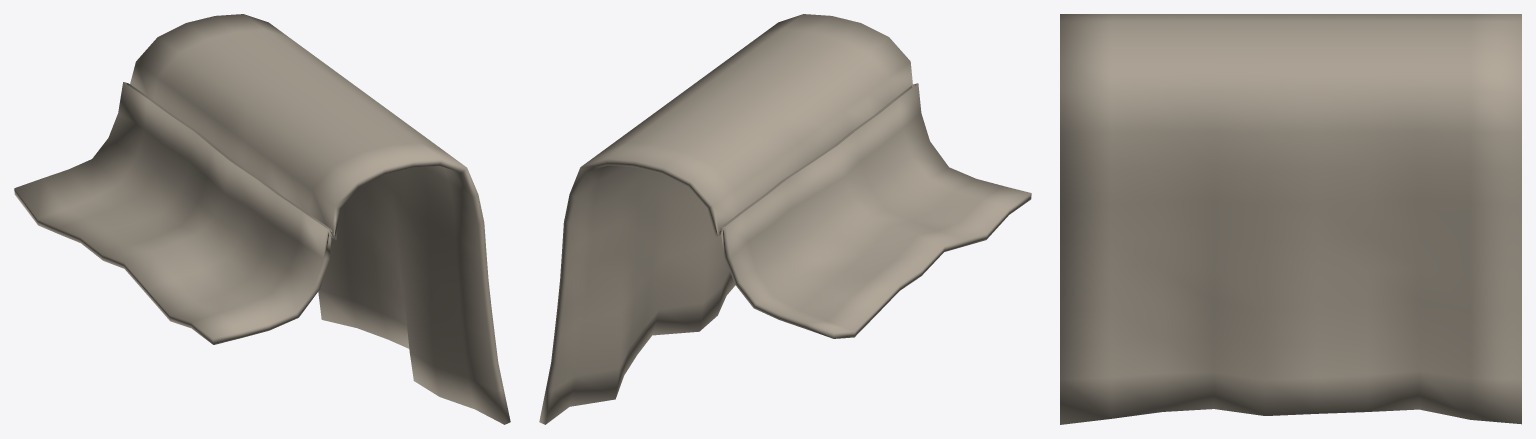
Rendered from decor_c_throw.gltf.
3 views of the same model, side by side, from view 1: azimuth 30°, elevation 25°; view 2: azimuth 150°, elevation 25°; view 3: azimuth 270°, elevation 25° (orthographic). The views are drawn at different scales.
Parts seen in each view (by area): view 1: DecorC_Throw_Oat_NoCollide; view 2: DecorC_Throw_Oat_NoCollide; view 3: DecorC_Throw_Oat_NoCollide.
Boxes of the visible parts, x1,y1,x2,y2 form: DecorC_Throw_Oat_NoCollide: [14, 14, 510, 424]; DecorC_Throw_Oat_NoCollide: [539, 14, 1031, 424]; DecorC_Throw_Oat_NoCollide: [1060, 14, 1521, 424].
Bounding box in the file's own units: 0.4792 × 0.439 × 0.55.
